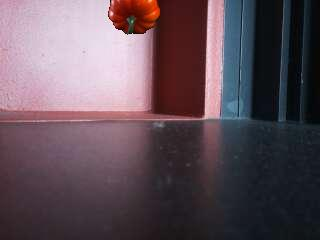Pumpkin: (109, 0, 160, 36)
